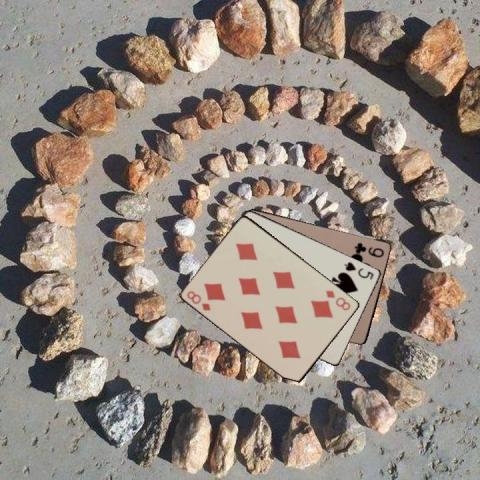5s: (342, 258, 376, 280)
8d: (323, 287, 352, 312), (184, 287, 213, 312)
9c: (352, 239, 385, 258)
